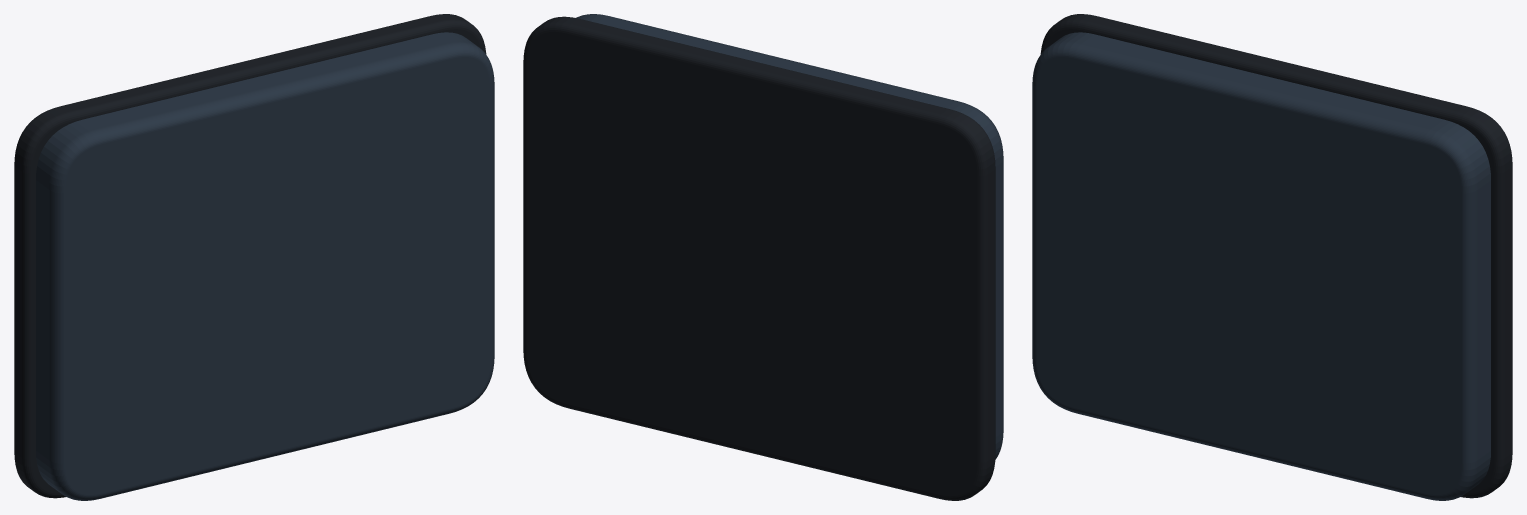
Rendered from alcapao_teto_emergencia.glb.
3 views of the same model, side by side, from view 1: azimuth 30°, elevation 25°; view 2: azimuth 150°, elevation 25°; view 3: azimuth 330°, elevation 25° (orthographic).
Visible parts, largest first — view 1: AlcapaoEscotilhaTeto; view 2: AlcapaoEscotilhaTeto; view 3: AlcapaoEscotilhaTeto.
Boxes of the visible parts, box(x1,y1,x2,y2) form: AlcapaoEscotilhaTeto: box(14, 14, 494, 500); AlcapaoEscotilhaTeto: box(523, 14, 1003, 500); AlcapaoEscotilhaTeto: box(1032, 14, 1512, 500).
Bounding box in the file's own units: 3.05 × 2.42 × 0.39.
